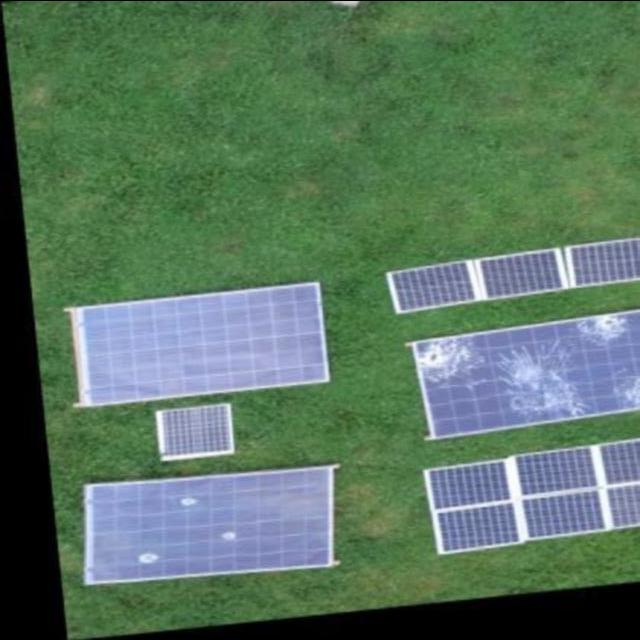cracked: (412, 306, 638, 439)
soiled: (84, 466, 337, 582)
